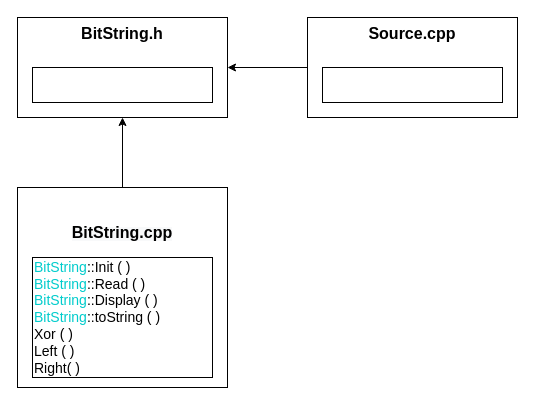
This 535x405 diagram has some shape labels left out. The centre of each missing label's shape, as x and y in pixels:
"class BitString" goes at (x=122, y=84).
"main ( )" goes at (x=412, y=84).
